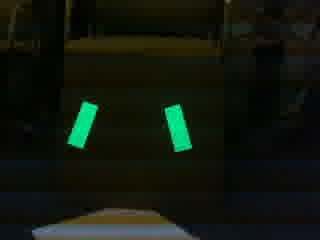target: (65, 99, 201, 156)
